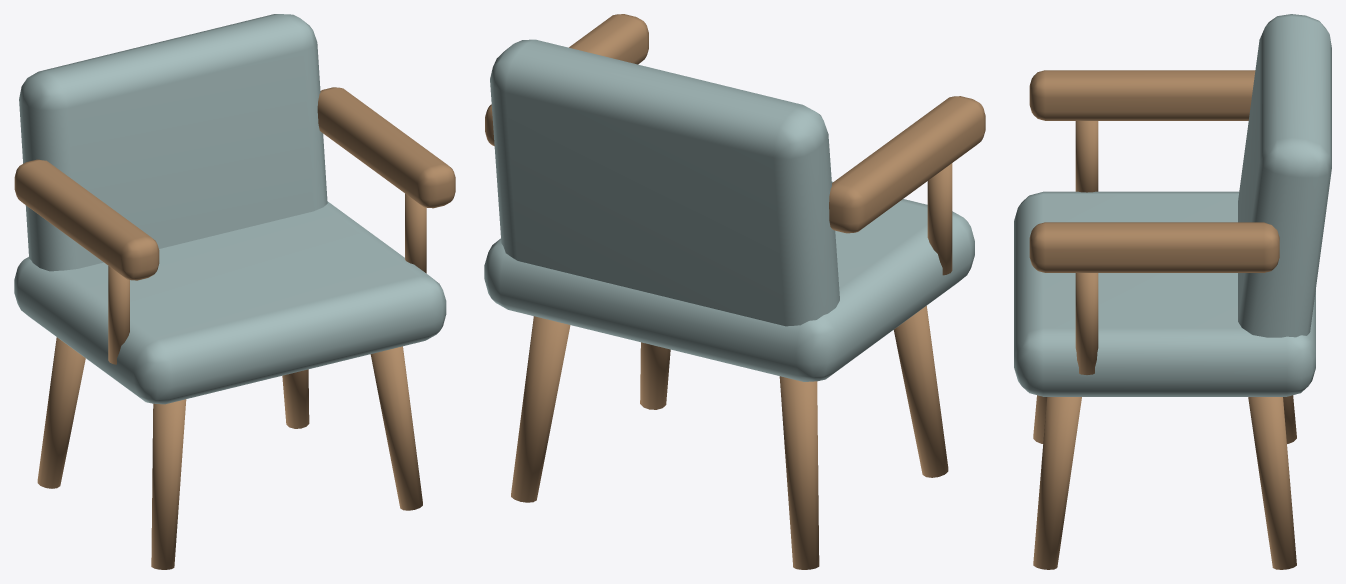
The model's file is atelier-accent-chair.glb.
3 renders of one model, left to right at view 1: azimuth 30°, elevation 25°; view 2: azimuth 150°, elevation 25°; view 3: azimuth 270°, elevation 25°, orthographic. The views are drawn at different scales.
Parts seen in each view (by area): view 1: fabric.009, legs.009; view 2: fabric.009, legs.009; view 3: fabric.009, legs.009.
Part boxes in pixels (bbox=[...]): fabric.009: bbox=[14, 14, 446, 404]; legs.009: bbox=[14, 87, 455, 569]; fabric.009: bbox=[484, 39, 974, 381]; legs.009: bbox=[485, 14, 985, 569]; fabric.009: bbox=[1014, 14, 1331, 396]; legs.009: bbox=[1029, 70, 1296, 569].
Size of the model in its own units: 0.7762 by 0.9036 by 0.6103.
